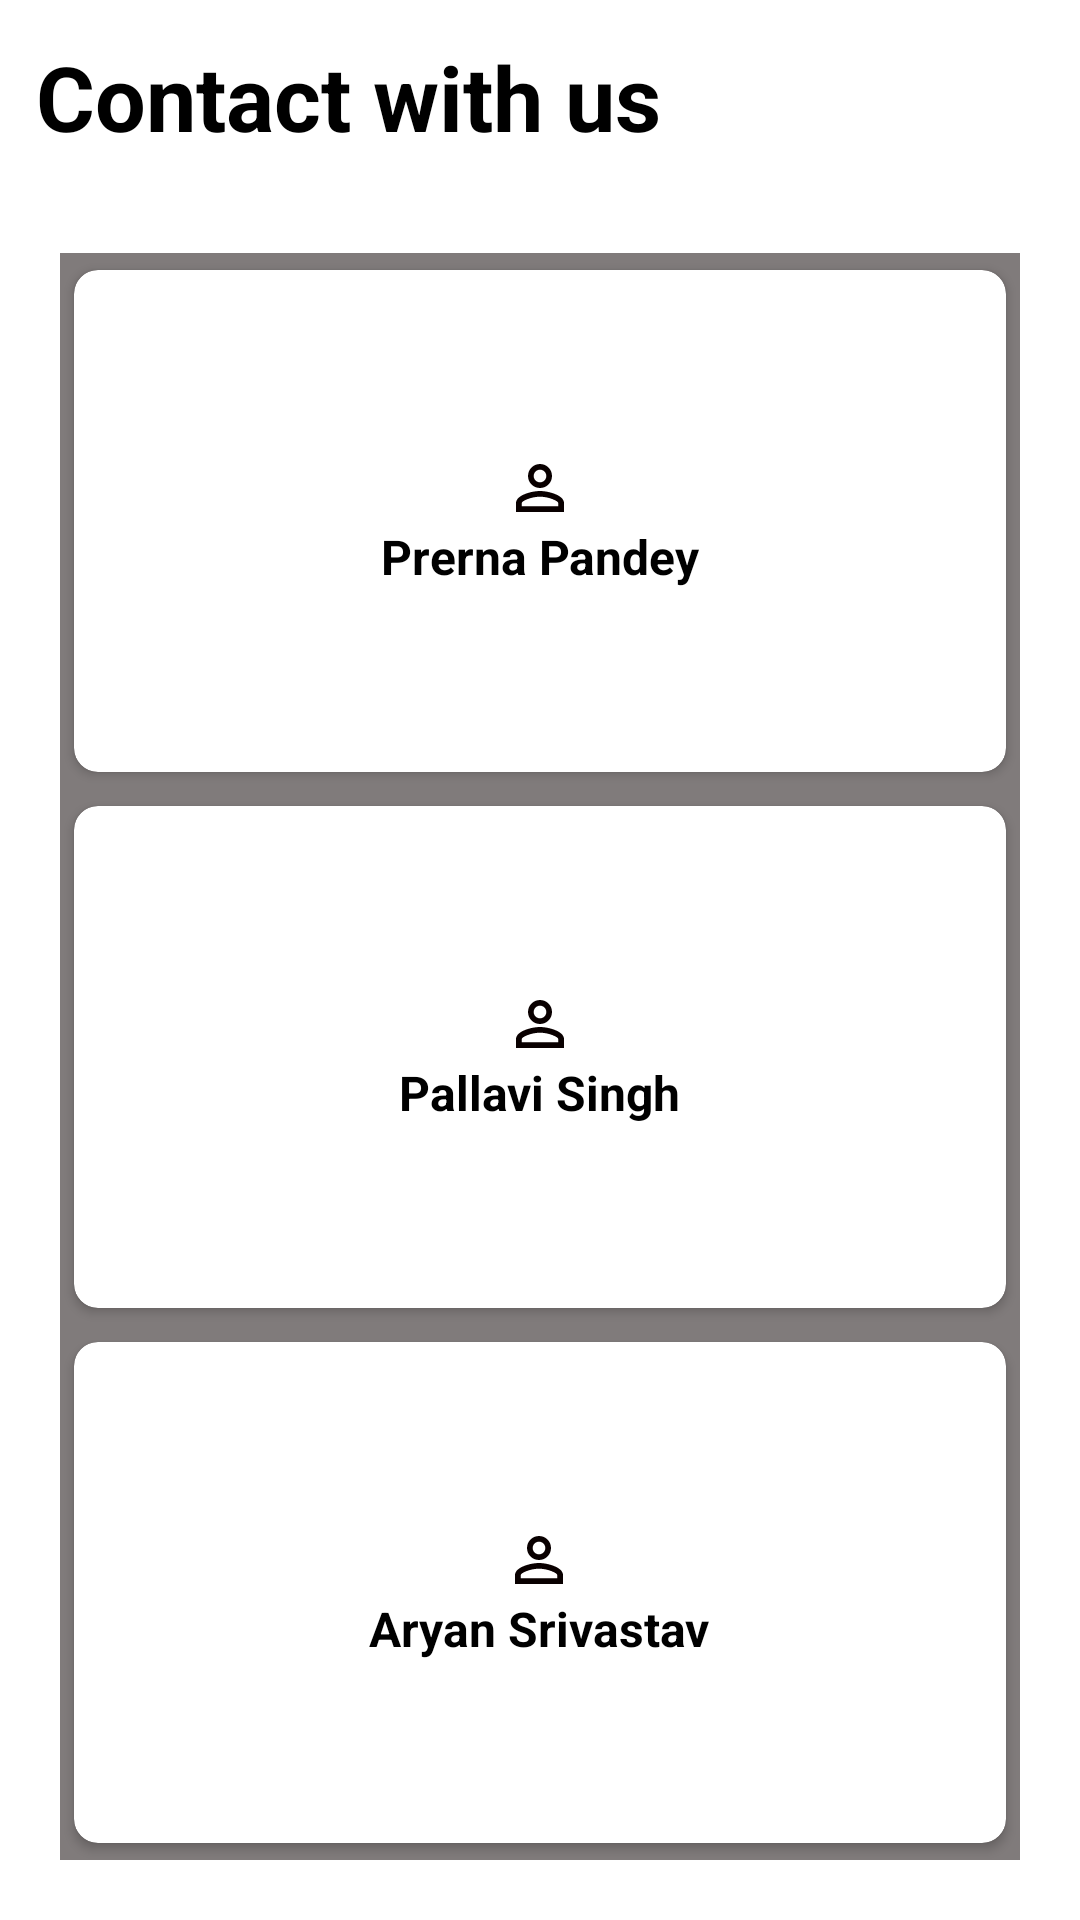

Point at icon controls on the screen. Image size 1080px×1920px, points as (x,y).
person: (540,488), (540,1024), (539,1560)
